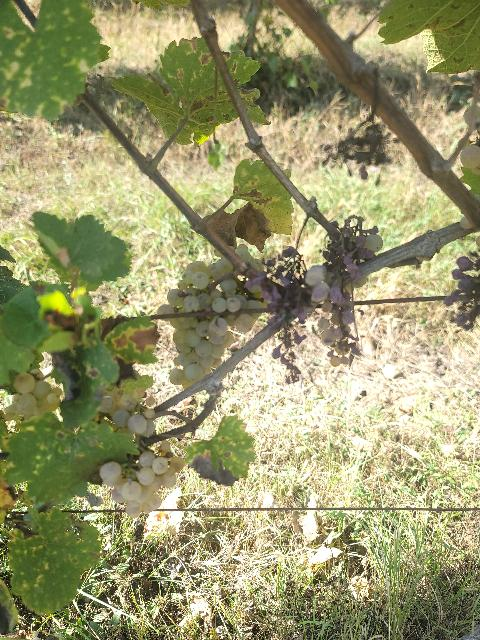grapes: (158, 258, 262, 389)
